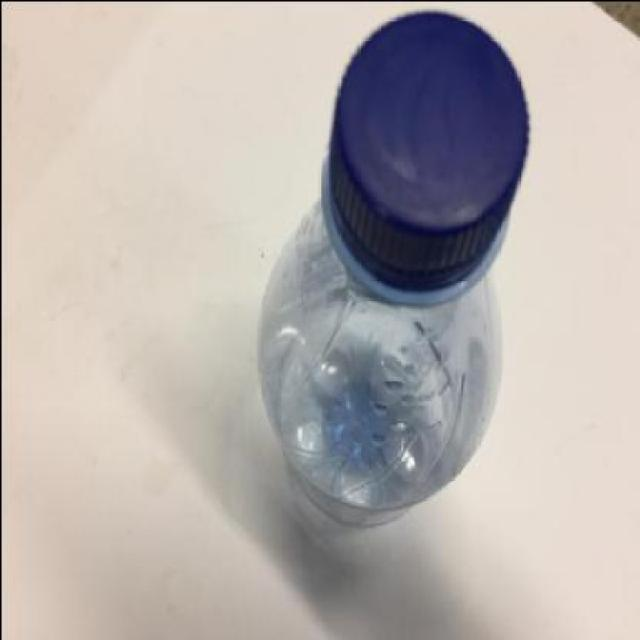PLASTIC: (254, 10, 526, 527), (315, 10, 528, 295)
